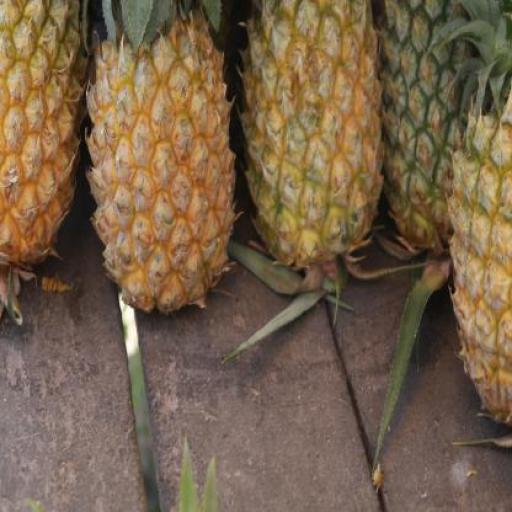------------------------------: (242, 2, 382, 249)
Pineapple - v8 v1: (90, 0, 240, 300), (0, 1, 87, 263)
